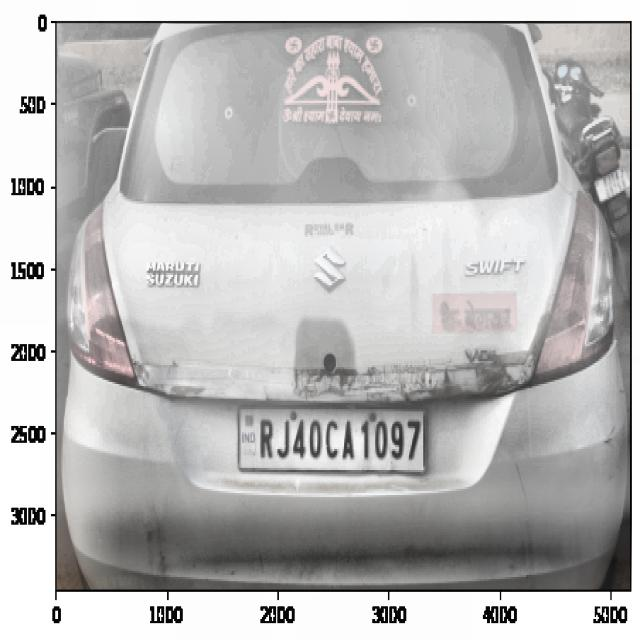license_plate: (252, 409, 423, 471)
